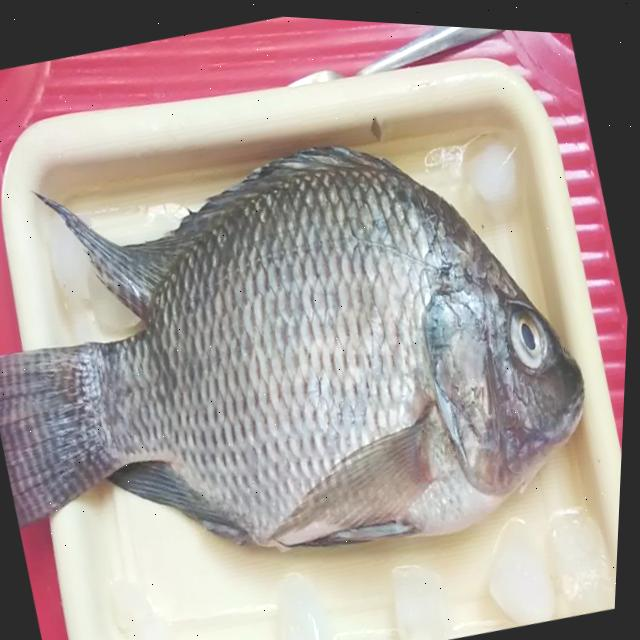Fresh: (0, 77, 533, 640), (487, 289, 559, 378)
